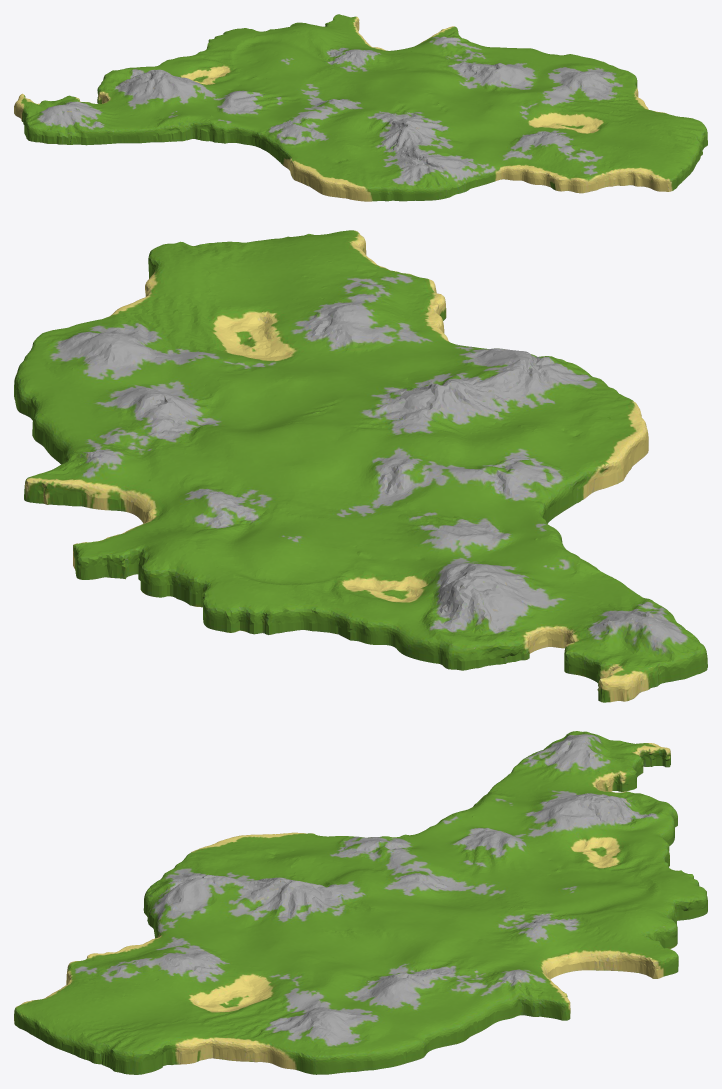
File: island3.fbx
The picture shows the model from 3 angles, top to bottom: view 1: azimuth 30°, elevation 25°; view 2: azimuth 150°, elevation 25°; view 3: azimuth 270°, elevation 25°; orthographic projection. The views are drawn at different scales.
Parts seen in each view (by area): view 1: island3_Baked; view 2: island3_Baked; view 3: island3_Baked.
Boxes of the visible parts, left/top/right/bottom form: island3_Baked: left=14, top=14, right=707, bottom=201; island3_Baked: left=14, top=230, right=707, bottom=702; island3_Baked: left=14, top=731, right=707, bottom=1074.
Bounding box in the file's own units: 838777 × 49438 × 750937.
1 material, 1 textured.
